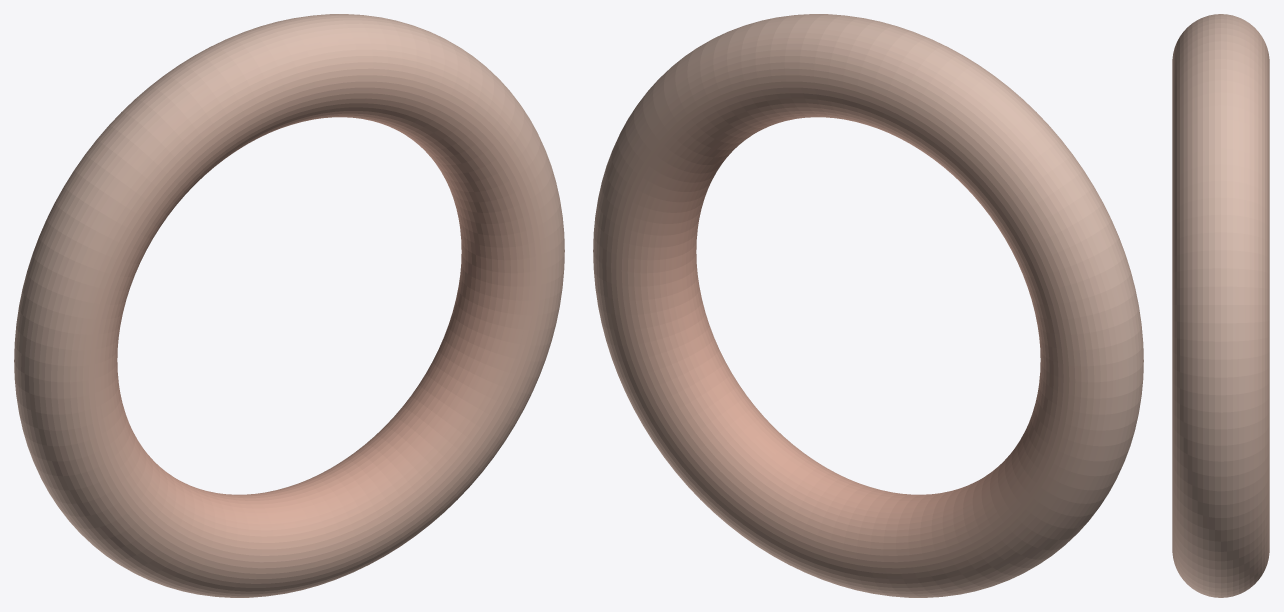
3 views of the same model, side by side, from view 1: azimuth 30°, elevation 25°; view 2: azimuth 150°, elevation 25°; view 3: azimuth 270°, elevation 25° (orthographic). The views are drawn at different scales.
Parts seen in each view (by area): view 1: world; view 2: world; view 3: world.
Part boxes in pixels (left/top/right/bottom): world: left=14, top=14, right=564, bottom=597; world: left=593, top=14, right=1143, bottom=597; world: left=1172, top=14, right=1269, bottom=597.
Bounding box in the file's own units: 18.4 × 18.4 × 3.06.
